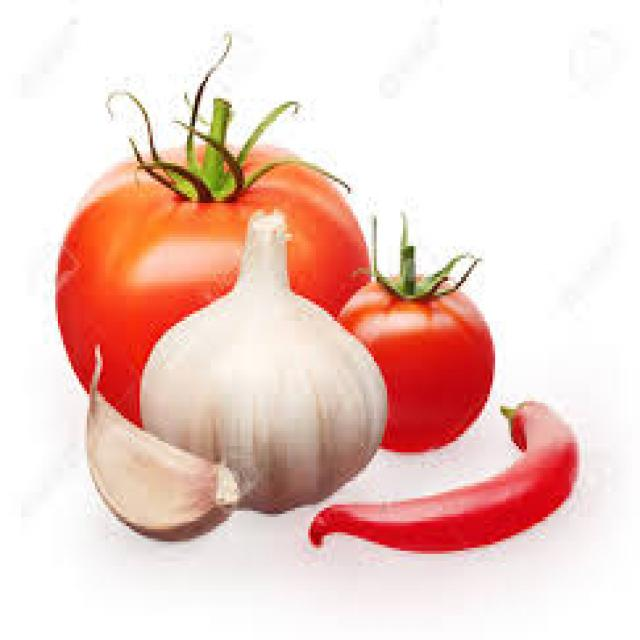organic waste: (55, 96, 369, 422), (132, 206, 382, 514), (305, 394, 577, 551), (334, 212, 492, 450), (87, 342, 240, 536)
